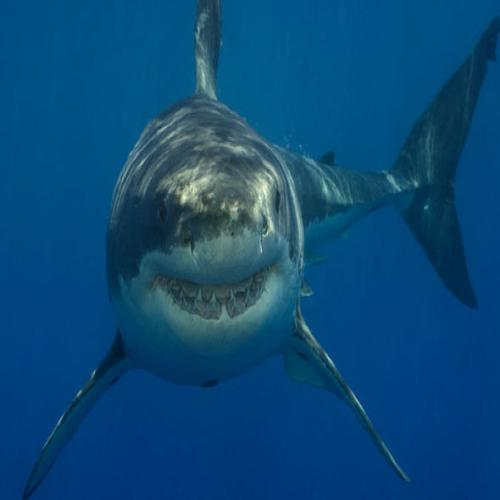shark-endangered: (77, 68, 487, 405)
